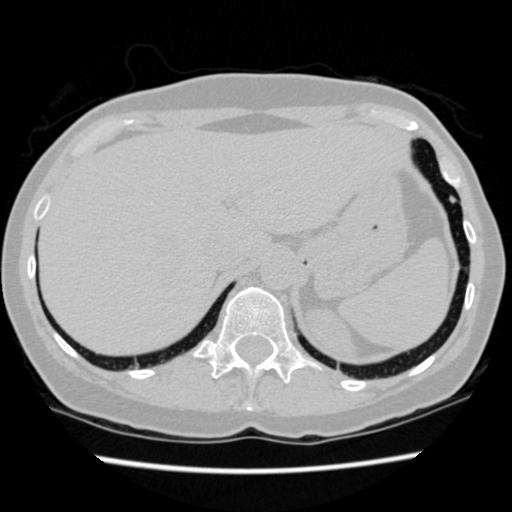nodule: (445, 192, 460, 207)
